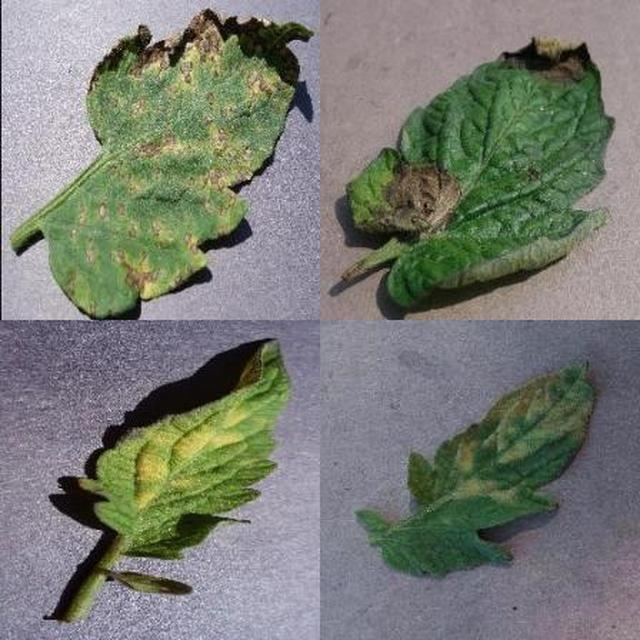Septoria Leaf: (255, 233, 640, 640)
